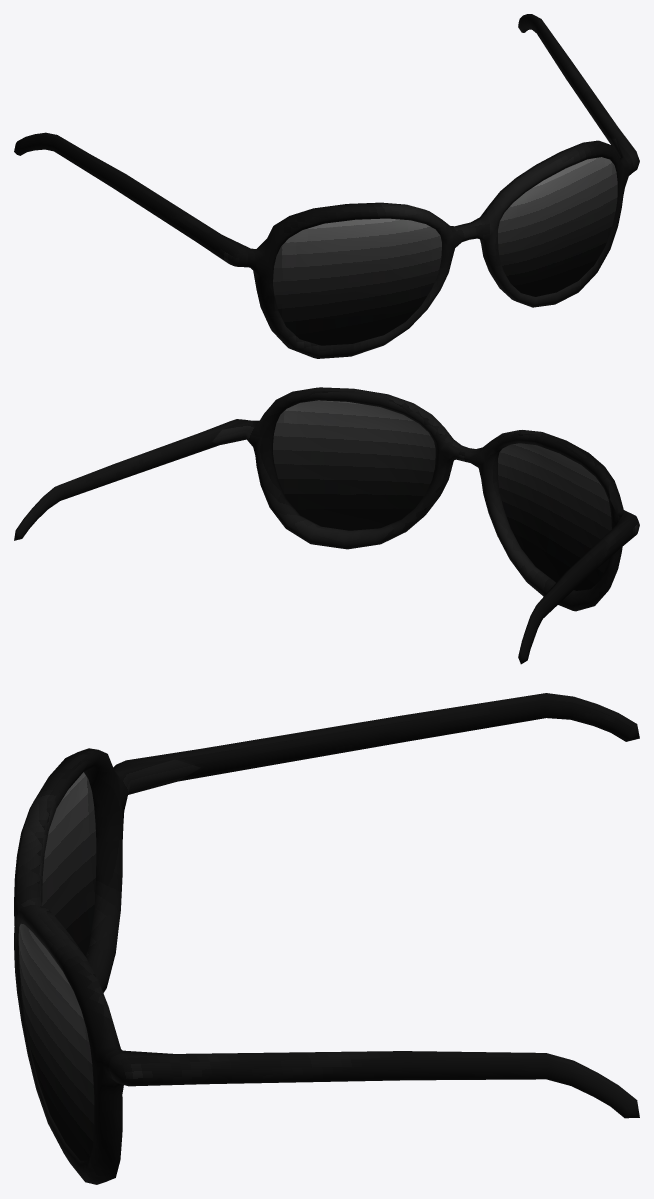
Rendered from B_Q3_F_Acc_5005.DAE.
The picture shows the model from 3 angles, top to bottom: view 1: azimuth 30°, elevation 25°; view 2: azimuth 150°, elevation 25°; view 3: azimuth 270°, elevation 25°; orthographic projection. The views are drawn at different scales.
Visible parts, largest first — view 1: B_Q3_F_Acc_5005; view 2: B_Q3_F_Acc_5005; view 3: B_Q3_F_Acc_5005.
Boxes of the visible parts, left/top/right/bottom form: B_Q3_F_Acc_5005: left=14, top=14, right=639, bottom=358; B_Q3_F_Acc_5005: left=14, top=387, right=639, bottom=664; B_Q3_F_Acc_5005: left=14, top=693, right=639, bottom=1184.
Size of the model in its own units: 21.15 by 14.63 by 6.18.
